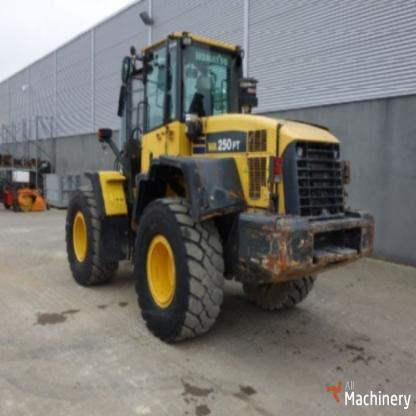bull_dozer/loader/grader: (52, 26, 379, 348)
